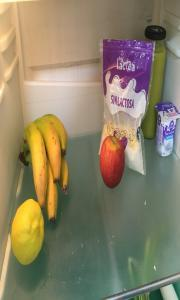Limón: (10, 196, 47, 273)
Manzana: (99, 130, 126, 192)
Plátano: (20, 121, 47, 209), (33, 114, 62, 184)
Queso: (100, 37, 150, 138)
Yogur: (154, 97, 180, 168)
